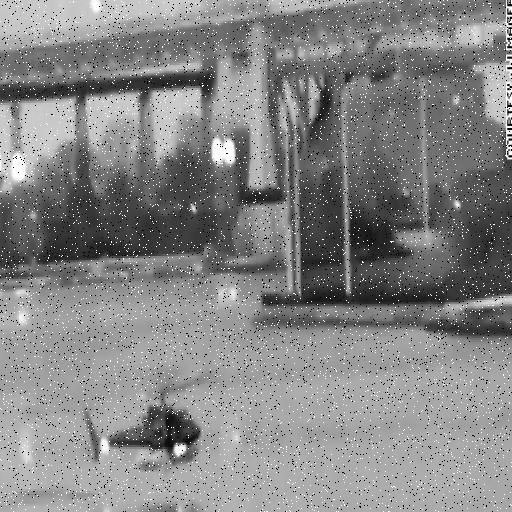helicopter: (82, 360, 223, 490)
